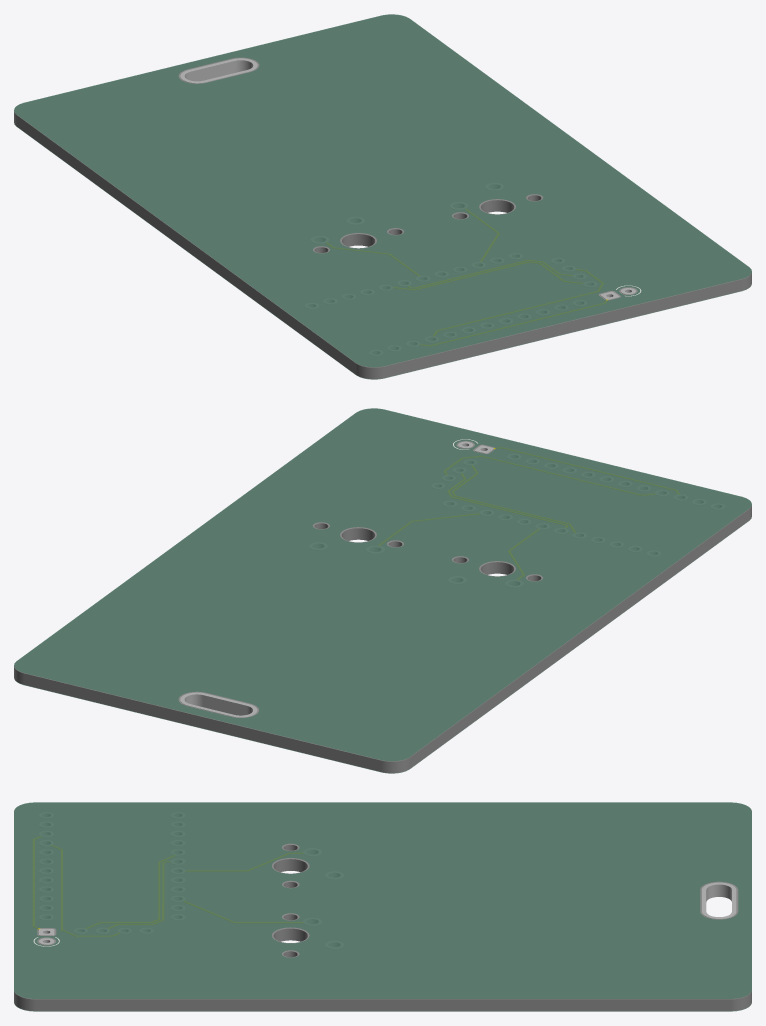
File: meetup_badge_2switch.glb
The picture shows the model from 3 angles, top to bottom: view 1: azimuth 30°, elevation 25°; view 2: azimuth 150°, elevation 25°; view 3: azimuth 270°, elevation 25°; orthographic projection. The views are drawn at different scales.
Parts seen in each view (by area): view 1: =>[0:1:1:7], =>[0:1:1:5], =>[0:1:1:3], =>[0:1:1:6], =>[0:1:1:2]; view 2: =>[0:1:1:7], =>[0:1:1:5], =>[0:1:1:3], =>[0:1:1:6], =>[0:1:1:2]; view 3: =>[0:1:1:7], =>[0:1:1:5], =>[0:1:1:3], =>[0:1:1:2], =>[0:1:1:6].
Part boxes in pixels (x1,y1,x2,y2): =>[0:1:1:7]: (14,15,751,379); =>[0:1:1:5]: (14,14,751,367); =>[0:1:1:3]: (180,58,635,355); =>[0:1:1:6]: (14,124,751,379); =>[0:1:1:2]: (326,209,607,345); =>[0:1:1:7]: (14,409,751,773); =>[0:1:1:5]: (14,408,751,761); =>[0:1:1:3]: (180,441,724,717); =>[0:1:1:6]: (14,518,751,773); =>[0:1:1:2]: (379,448,678,579); =>[0:1:1:7]: (14,803,751,1011); =>[0:1:1:5]: (14,802,751,998); =>[0:1:1:3]: (39,812,736,948); =>[0:1:1:2]: (33,836,302,935); =>[0:1:1:6]: (14,1004,751,1011).
Size of the model in its own units: 0.0539 by 0.00163 by 0.0855.
